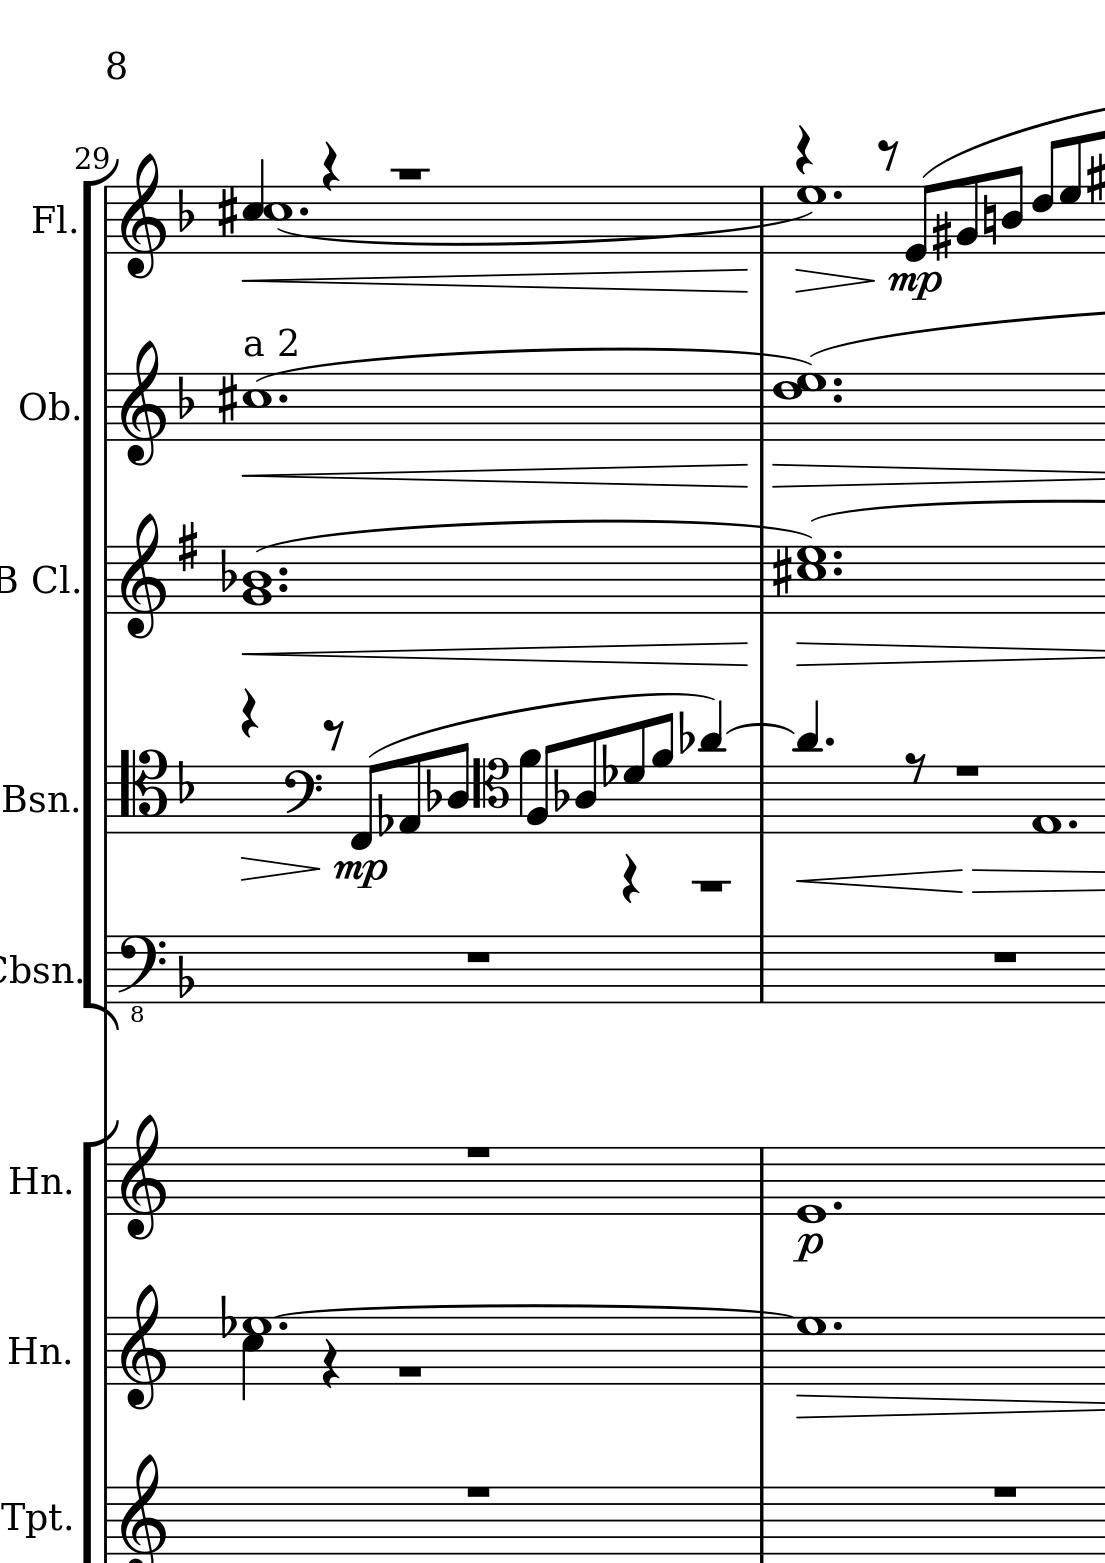1_0: (795, 1142, 828, 1226)
1_1: (1030, 762, 1064, 837)
1_2_4: (242, 544, 274, 613)
1_5: (242, 371, 273, 442)
1_5_7: (796, 544, 826, 613)
1_6_7: (774, 372, 828, 440)
1_7: (795, 1315, 828, 1387), (796, 184, 826, 255)
2: (72, 144, 92, 171)
4_11: (792, 698, 822, 838), (698, 696, 724, 836)
4_9: (518, 747, 541, 838)
8: (104, 48, 127, 83)
8_-1: (347, 762, 378, 851)
8_0: (903, 181, 934, 263)
8_1: (396, 753, 422, 836)
8_2: (954, 175, 979, 256)
8_4: (572, 734, 598, 835), (445, 740, 470, 836), (1000, 164, 1024, 255)
8_6: (1030, 138, 1060, 256)
8_7: (621, 720, 646, 835), (1057, 138, 1081, 256)
8_9: (651, 713, 674, 835)
9: (91, 144, 109, 170)
Bracke: (81, 158, 120, 1028)
Bsn: (1, 776, 71, 822)
Cl: (30, 557, 73, 600)
Crescendo_hairpin: (240, 269, 750, 294), (796, 868, 964, 893)
Diminuendo_hairpin: (239, 856, 319, 881), (795, 269, 875, 293)
Fclef: (282, 764, 323, 835)
Fl: (29, 200, 69, 240)
Flat: (173, 952, 197, 1001), (173, 373, 197, 421), (173, 187, 196, 233), (175, 758, 196, 806), (216, 545, 237, 594), (551, 767, 570, 812), (218, 1293, 236, 1341), (425, 767, 442, 812), (376, 792, 392, 838), (602, 743, 617, 787), (677, 710, 692, 755)
Gclef: (117, 151, 167, 281), (117, 338, 167, 468), (117, 511, 167, 640), (118, 1283, 169, 1411), (120, 1112, 167, 1241), (118, 1452, 167, 1563)
Hn: (4, 1329, 62, 1370), (6, 1161, 63, 1201)
Lower_Fclef: (115, 933, 166, 1025)
Natural: (982, 193, 999, 249)
Ob: (16, 384, 72, 429)
Rests1: (390, 163, 431, 185), (462, 1480, 494, 1503), (988, 1480, 1021, 1502), (460, 1142, 494, 1162), (692, 877, 728, 895), (989, 947, 1022, 966), (462, 948, 494, 966), (952, 761, 983, 779)
Rests2: (392, 1360, 426, 1380)
Rests4: (318, 1337, 341, 1391), (319, 139, 341, 194), (239, 686, 260, 741), (619, 851, 640, 906), (794, 122, 813, 175)
Rests8: (320, 718, 347, 750), (875, 138, 901, 170), (903, 751, 927, 784)
Sharp: (175, 519, 201, 574), (768, 547, 794, 598), (214, 184, 238, 239), (214, 371, 238, 425), (1083, 151, 1103, 204), (932, 210, 951, 263)
Single_barline: (751, 1486, 773, 1553), (751, 373, 771, 441), (752, 936, 773, 1003), (98, 1147, 117, 1215), (752, 187, 771, 254), (753, 547, 773, 613), (98, 767, 117, 834), (752, 767, 771, 834), (752, 1318, 771, 1384), (751, 1148, 770, 1213), (97, 188, 115, 254), (99, 547, 116, 613), (98, 938, 115, 1005), (99, 1486, 116, 1553), (99, 373, 115, 440), (99, 1318, 115, 1385)
Slur: (362, 692, 718, 759), (249, 348, 814, 383), (254, 520, 813, 552), (280, 214, 816, 244), (274, 1303, 794, 1317), (725, 722, 793, 735)
Tensor_Cclef: (115, 747, 167, 836), (471, 755, 509, 836)
Tpt: (1, 1496, 65, 1540)
dot: (830, 379, 845, 403), (830, 188, 845, 202), (830, 1198, 845, 1213), (831, 548, 845, 562), (831, 1319, 845, 1333), (276, 391, 289, 407), (822, 735, 837, 749), (1067, 817, 1080, 831), (830, 393, 845, 405), (830, 564, 845, 576), (297, 204, 310, 218), (276, 564, 289, 578), (276, 1320, 289, 1333), (275, 581, 289, 593), (831, 376, 844, 387)
mp: (885, 268, 946, 305), (329, 856, 391, 891)
p: (792, 1231, 823, 1265)
